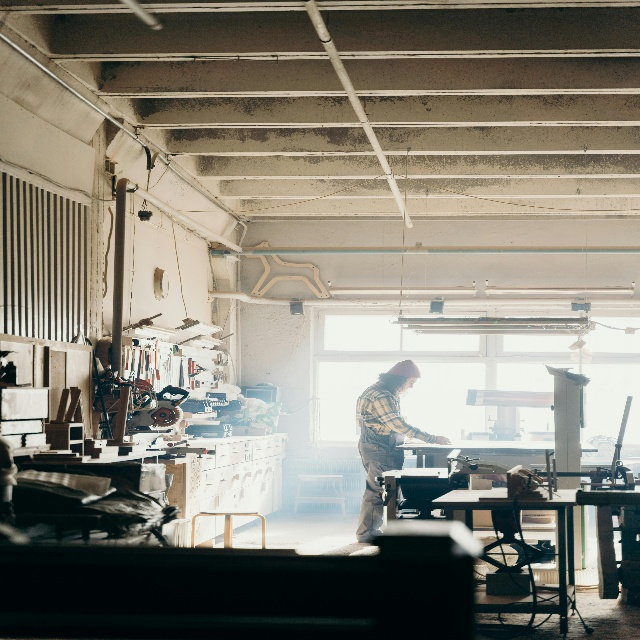Sin_guantes: (436, 434, 451, 447)
